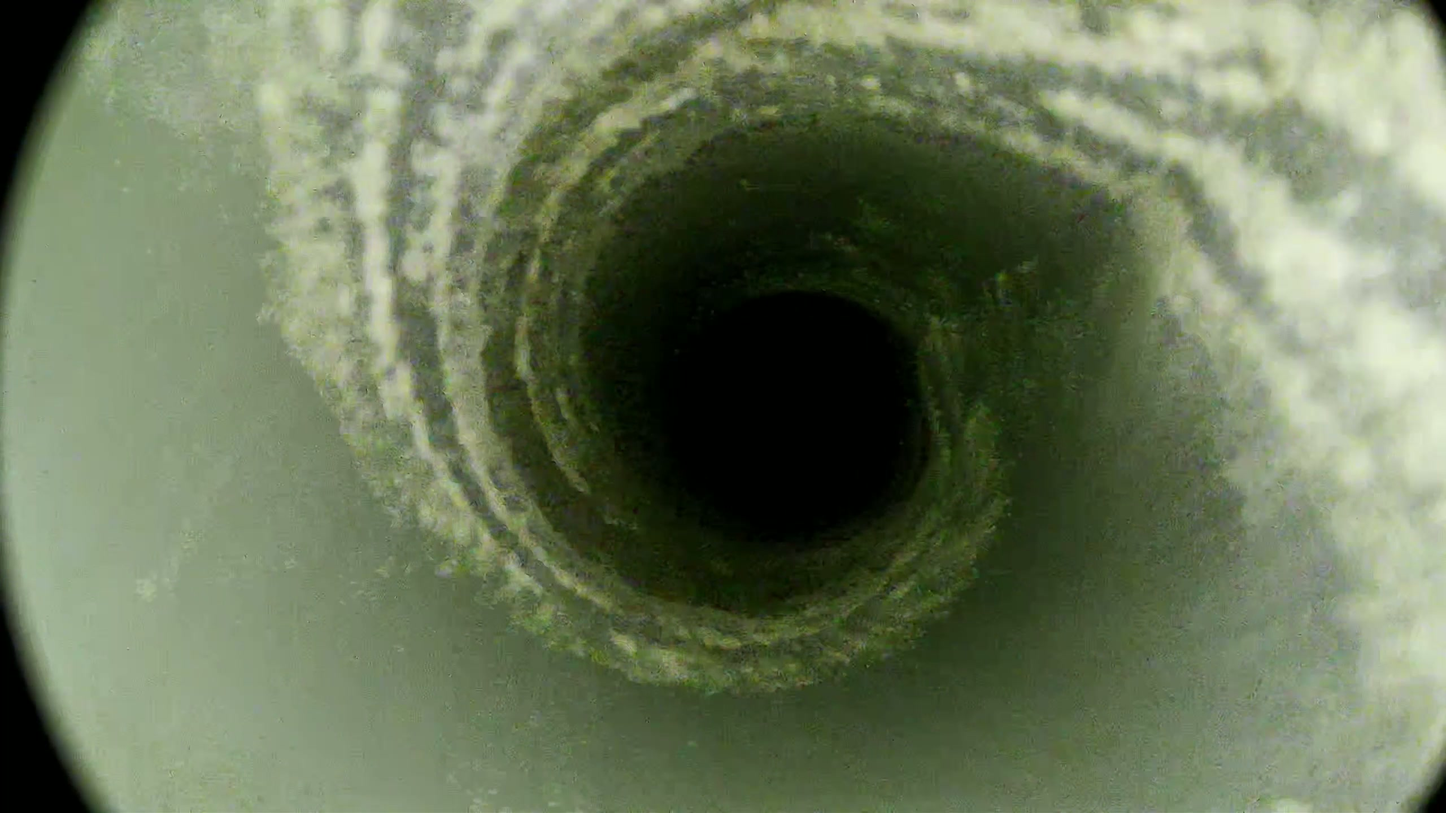hole: (670, 295, 907, 534)
